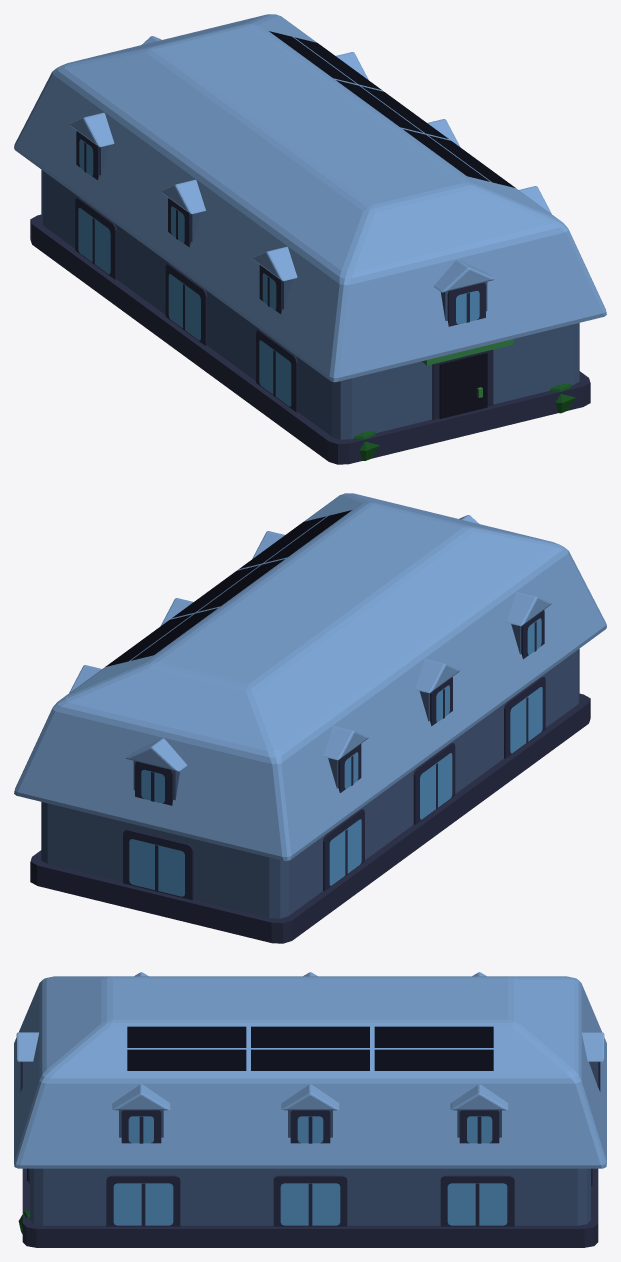
Rendered from house-1x2-1f-mansard-b-solar.glb.
3 views of the same model, one above another, from view 1: azimuth 30°, elevation 25°; view 2: azimuth 150°, elevation 25°; view 3: azimuth 270°, elevation 25° (orthographic). The views are drawn at different scales.
Parts seen in each view (by area): view 1: house-1x2-1f-mansard-b-solar; view 2: house-1x2-1f-mansard-b-solar; view 3: house-1x2-1f-mansard-b-solar.
Boxes of the visible parts, box(x1,y1,x2,y2) form: house-1x2-1f-mansard-b-solar: box(14, 14, 606, 464); house-1x2-1f-mansard-b-solar: box(14, 493, 606, 943); house-1x2-1f-mansard-b-solar: box(14, 972, 606, 1247).
Size of the model in its own units: 0.9876 by 0.7026 by 1.99.
1 material, 1 textured.
